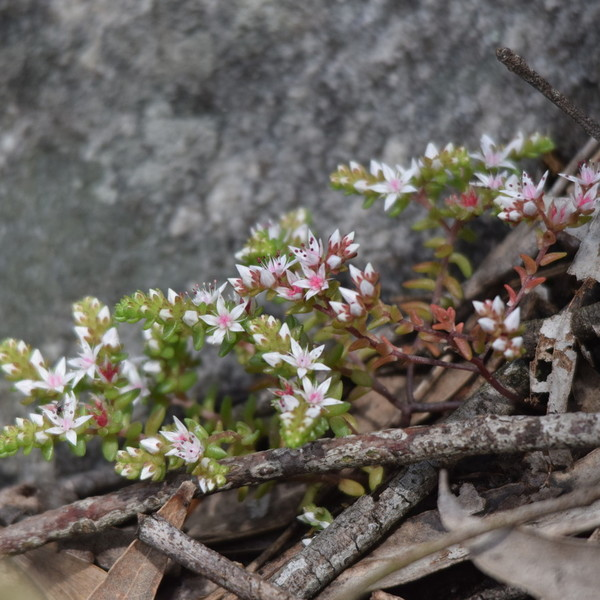obstacle: (23, 217, 412, 448), (323, 138, 585, 253)
